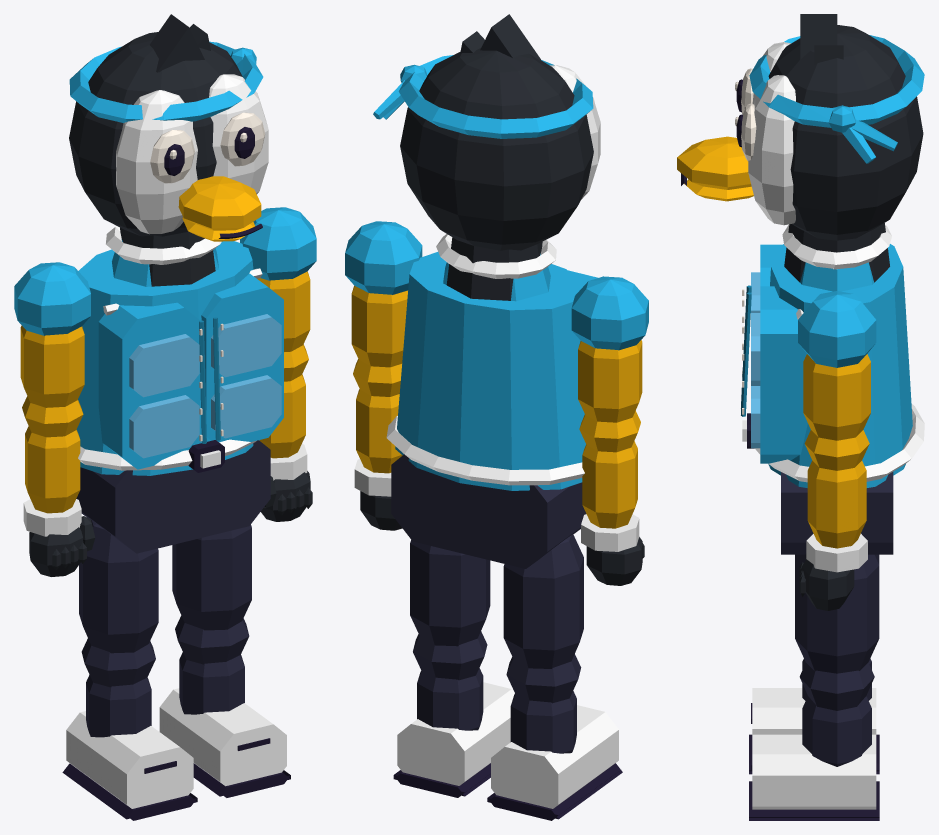
3 renders of one model, left to right at view 1: azimuth 30°, elevation 25°; view 2: azimuth 150°, elevation 25°; view 3: azimuth 270°, elevation 25°, orthographic. The views are drawn at different scales.
Visible parts, largest first — view 1: torso_padded_vest, head_fur, torso_vest_quilt, hips_trousers, head_fur_secondary, thigh_r_trousers, shin_r_trim_belt_boots, shin_l_trim_belt_boots, thigh_l_trousers, forearm_r_shirt_sleeves, shin_l_trousers, shin_r_trousers (+19 smaller); view 2: torso_padded_vest, head_fur, hips_trousers, thigh_r_trousers, shin_r_trim_belt_boots, thigh_l_trousers, shin_l_trim_belt_boots, forearm_r_shirt_sleeves, shin_r_trousers, shin_l_trousers, torso_trim_belt_boots, head_padded_vest (+13 smaller); view 3: head_fur, torso_padded_vest, shin_l_trim_belt_boots, thigh_l_trousers, forearm_l_shirt_sleeves, shin_l_trousers, head_padded_vest, head_fur_secondary, upperarm_l_shirt_sleeves, upperarm_l_padded_vest, hips_trousers, torso_trim_belt_boots (+9 smaller).
Part boxes in pixels (x1,y1,x2,y2): torso_padded_vest: (76,239,283,475); head_fur: (69,14,242,236); torso_vest_quilt: (129,314,281,458); hips_trousers: (76,440,270,553); head_fur_secondary: (116,74,268,234); thigh_r_trousers: (79,520,158,653); shin_r_trim_belt_boots: (66,711,193,808); shin_l_trim_belt_boots: (159,688,286,786); thigh_l_trousers: (172,524,251,630); forearm_r_shirt_sleeves: (22,396,83,513); shin_l_trousers: (175,615,249,714); shin_r_trousers: (81,638,155,737); torso_padded_vest: (395,252,598,490); head_fur: (400,14,593,250); hips_trousers: (391,454,586,568); thigh_r_trousers: (503,534,583,668); shin_r_trim_belt_boots: (491,705,618,808); thigh_l_trousers: (410,540,490,646); shin_l_trim_belt_boots: (397,682,514,785); forearm_r_shirt_sleeves: (579,411,640,528); shin_r_trousers: (506,654,581,753); shin_l_trousers: (413,631,487,730); torso_trim_belt_boots: (386,234,584,485); head_padded_vest: (373,55,593,138); head_fur: (768,14,923,240); torso_padded_vest: (760,244,912,487); shin_l_trim_belt_boots: (752,734,876,809); thigh_l_trousers: (795,554,879,673); forearm_l_shirt_sleeves: (804,430,869,548); shin_l_trousers: (799,662,874,766); head_padded_vest: (749,35,924,163); head_fur_secondary: (748,42,795,225); upperarm_l_shirt_sleeves: (803,354,870,440); upperarm_l_padded_vest: (798,291,876,367); hips_trousers: (781,472,893,554); torso_trim_belt_boots: (742,224,924,482).
Bounding box in the file's own units: 0.7607 × 1.86 × 0.5398.
